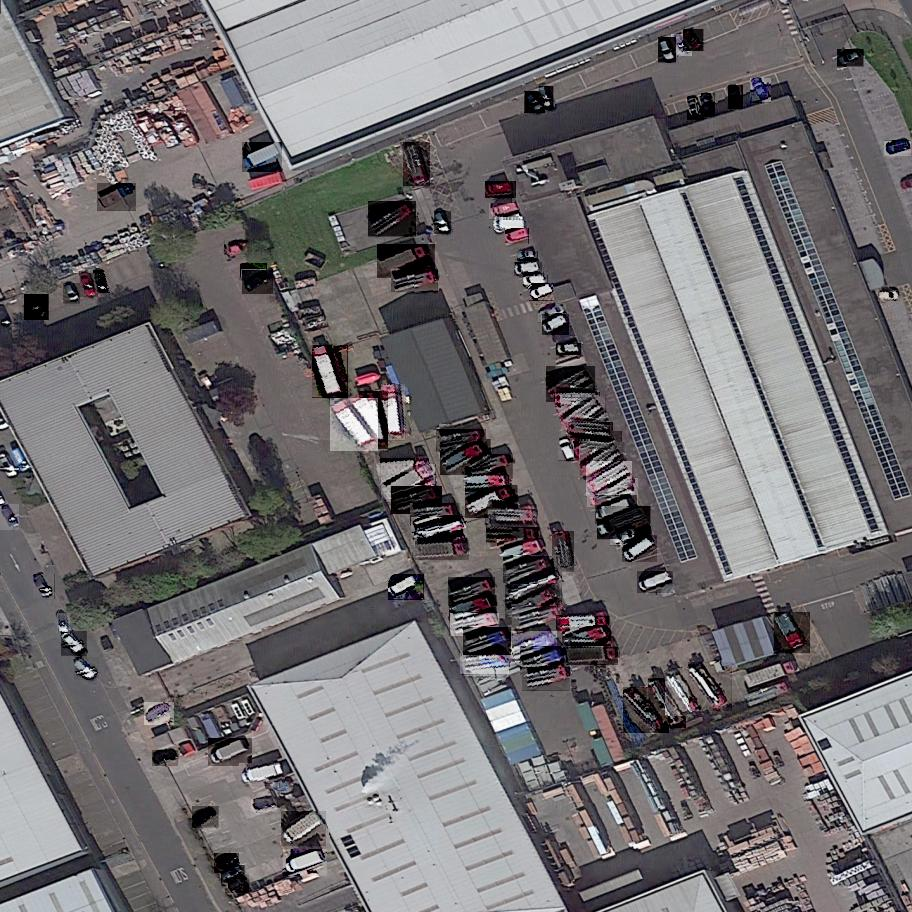large-vehicle: (330, 397, 378, 453), (506, 585, 562, 627), (689, 661, 733, 713), (624, 688, 671, 735), (381, 464, 436, 504), (312, 343, 348, 402), (506, 570, 562, 607), (665, 669, 707, 718), (377, 244, 435, 279), (648, 678, 686, 730), (598, 507, 651, 544), (368, 200, 417, 240), (441, 439, 491, 477), (547, 366, 596, 404), (581, 442, 626, 483), (466, 485, 518, 520), (281, 811, 326, 851), (562, 397, 607, 436), (360, 390, 389, 450), (507, 631, 558, 665), (587, 479, 639, 512), (587, 461, 633, 498), (412, 517, 467, 547), (497, 536, 547, 569), (774, 611, 811, 655), (562, 623, 611, 656), (574, 431, 622, 464), (391, 485, 443, 515), (463, 627, 512, 658), (449, 576, 496, 608), (503, 556, 553, 586), (382, 383, 406, 442), (520, 646, 565, 677), (513, 607, 564, 634), (209, 738, 253, 769), (403, 140, 432, 186), (595, 495, 638, 526), (284, 849, 328, 879), (243, 142, 284, 173), (450, 595, 497, 622), (239, 763, 285, 790), (375, 458, 431, 480), (437, 430, 488, 454), (467, 453, 514, 479), (411, 504, 461, 528), (97, 183, 137, 213), (450, 614, 500, 638), (522, 667, 570, 692), (391, 269, 439, 293), (460, 653, 509, 676), (415, 542, 470, 561), (388, 575, 424, 604), (551, 531, 575, 572), (566, 648, 618, 665), (558, 616, 609, 633), (569, 422, 613, 441), (464, 475, 509, 492), (487, 528, 538, 542), (488, 510, 535, 524), (556, 392, 599, 406), (487, 182, 516, 199)
small-vehicle: (622, 534, 657, 563), (242, 269, 274, 296), (145, 701, 175, 728), (638, 571, 673, 594), (61, 631, 88, 657), (24, 294, 49, 320), (75, 656, 100, 681), (193, 807, 219, 831), (543, 314, 570, 336), (34, 573, 56, 600), (538, 303, 566, 324), (750, 79, 771, 105), (490, 203, 520, 221), (0, 504, 20, 531), (215, 852, 239, 874), (558, 438, 579, 463), (610, 529, 639, 547), (525, 90, 546, 114), (80, 273, 98, 300), (838, 49, 865, 67), (672, 33, 693, 56), (684, 28, 705, 51), (225, 240, 253, 257), (658, 37, 676, 63), (221, 865, 245, 884), (529, 283, 554, 301), (93, 269, 110, 295), (435, 210, 452, 236), (505, 228, 530, 245), (228, 874, 250, 893), (153, 751, 179, 767), (687, 96, 704, 120), (63, 284, 81, 306), (251, 799, 277, 814), (728, 84, 743, 110), (240, 263, 267, 277), (515, 262, 542, 276), (540, 85, 555, 110), (493, 219, 525, 230), (702, 93, 716, 118), (556, 342, 581, 355), (523, 275, 548, 287), (57, 612, 70, 633), (879, 292, 900, 301), (517, 252, 537, 260)
